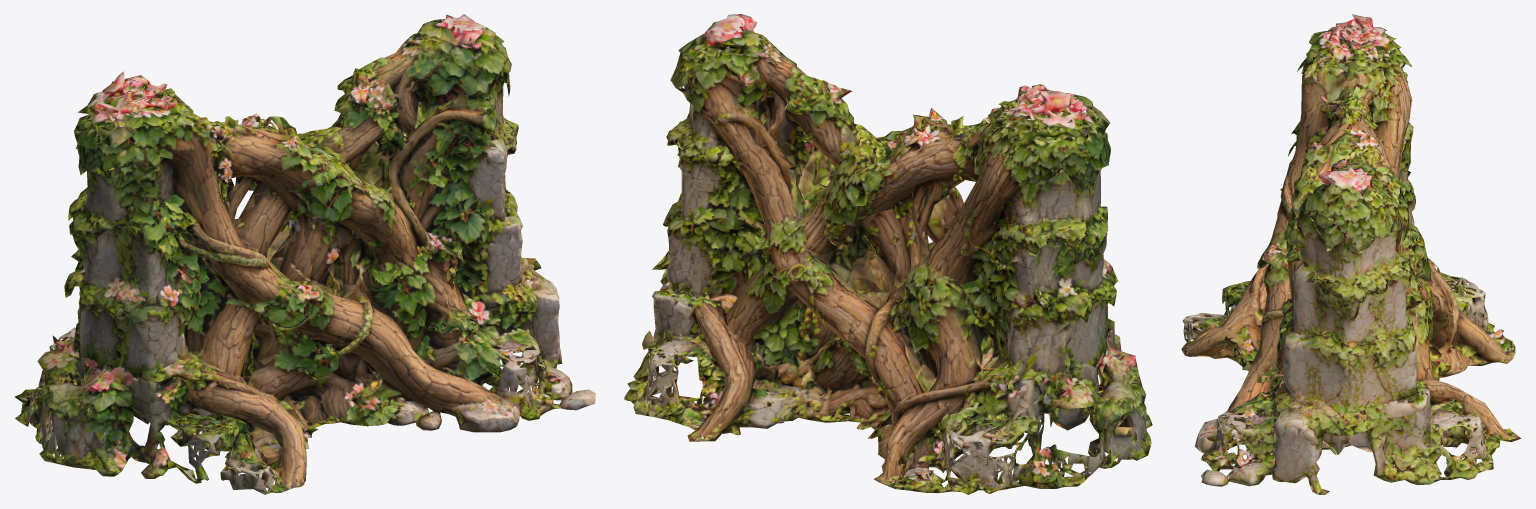
File: SpringRootDoor.fbx
3 renders of one model, left to right at view 1: azimuth 30°, elevation 25°; view 2: azimuth 150°, elevation 25°; view 3: azimuth 270°, elevation 25°, orthographic. The views are drawn at different scales.
Visible parts, largest first — view 1: Roots_Right, Roots_Left, Frame_Left, Frame_Right; view 2: Roots_Right, Frame_Left, Roots_Left, Frame_Right; view 3: Frame_Right, Roots_Left, Roots_Right, Frame_Left.
Part boxes in pixels (bbox=[...]): Roots_Right: bbox=[267, 31, 514, 432]; Roots_Left: bbox=[93, 80, 338, 494]; Frame_Left: bbox=[14, 71, 242, 489]; Frame_Right: bbox=[410, 14, 595, 427]; Roots_Right: bbox=[679, 38, 933, 441]; Frame_Left: bbox=[950, 87, 1152, 494]; Roots_Left: bbox=[848, 84, 1115, 493]; Frame_Right: bbox=[624, 14, 768, 423]; Frame_Right: bbox=[1197, 164, 1499, 494]; Roots_Left: bbox=[1181, 33, 1515, 380]; Roots_Right: bbox=[1195, 157, 1520, 449]; Frame_Left: bbox=[1196, 14, 1494, 332].
Size of the model in its own units: 96.83 by 67.09 by 65.84.
Materials: 1 (1 with a texture image).
